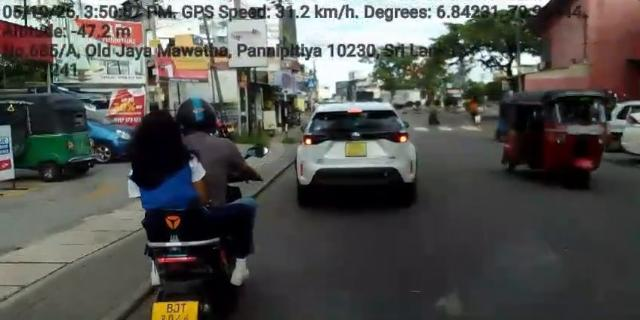no helmet: (140, 108, 182, 148)
number plate: (144, 298, 199, 320)
